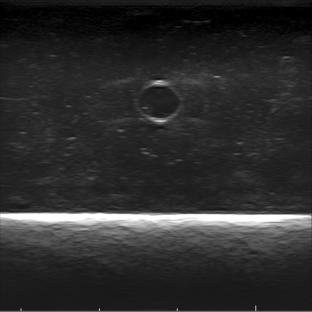vessel: (135, 79, 182, 123)
